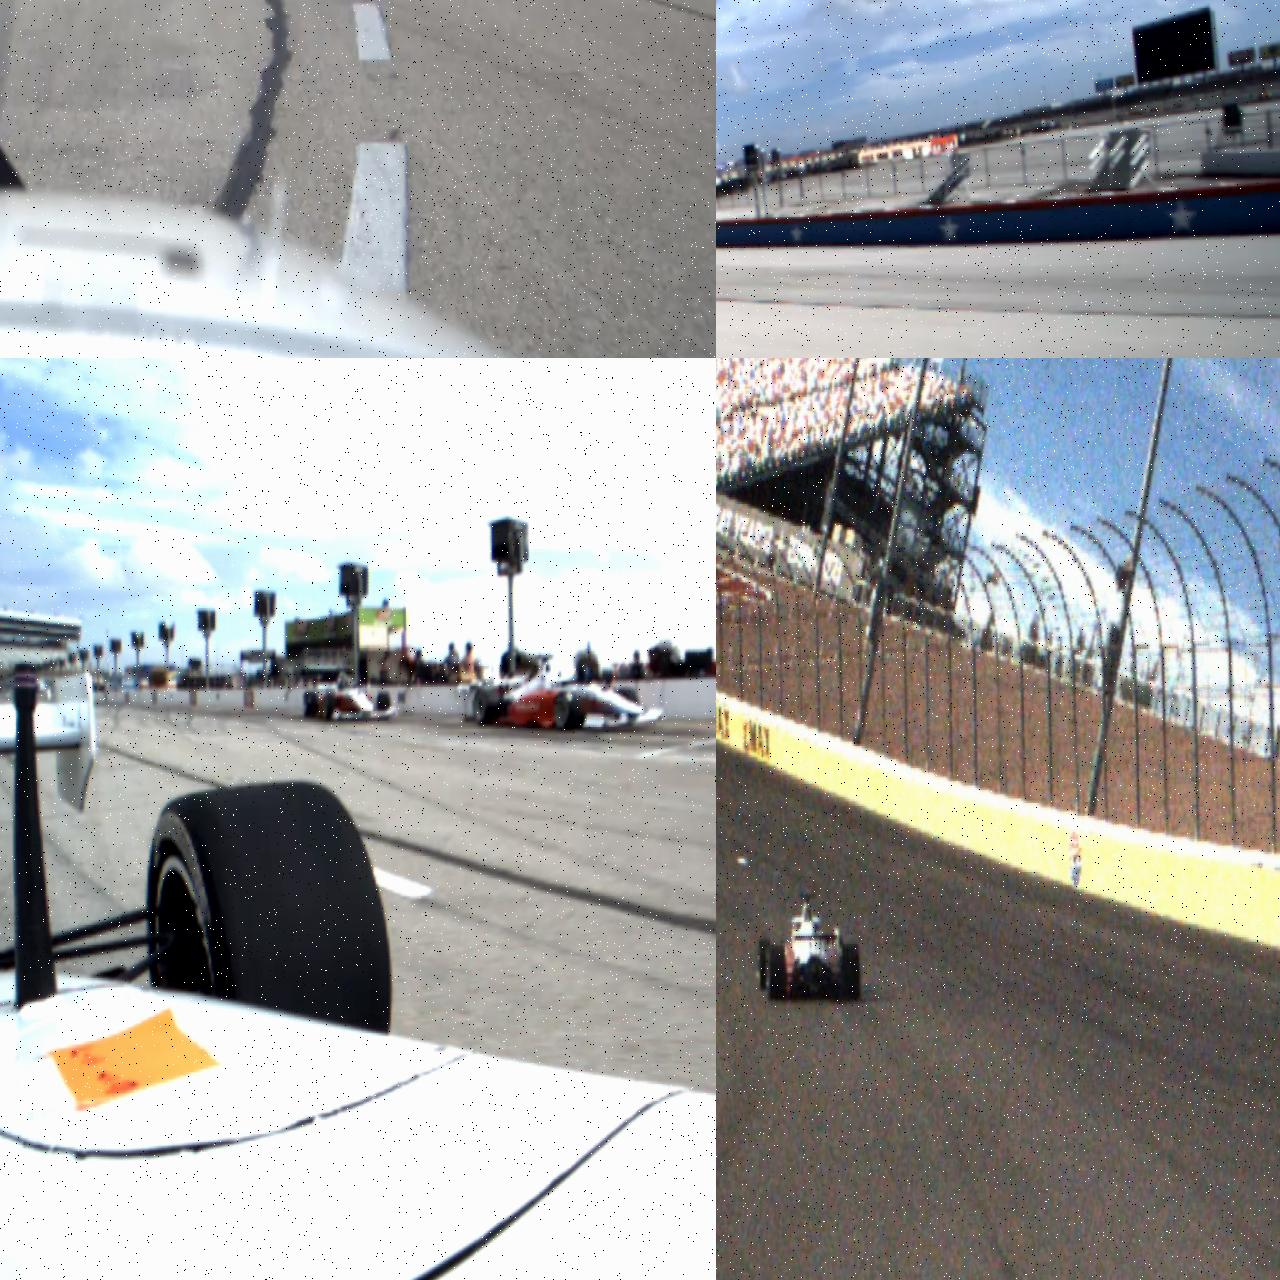AV: (471, 654, 666, 733), (754, 890, 862, 1005), (304, 672, 399, 723)
Wheel: (145, 779, 393, 1040), (472, 688, 504, 727), (553, 692, 584, 731), (765, 945, 787, 1001), (843, 942, 862, 1002), (758, 938, 772, 990), (304, 692, 319, 719), (376, 692, 390, 720), (325, 694, 335, 719)
